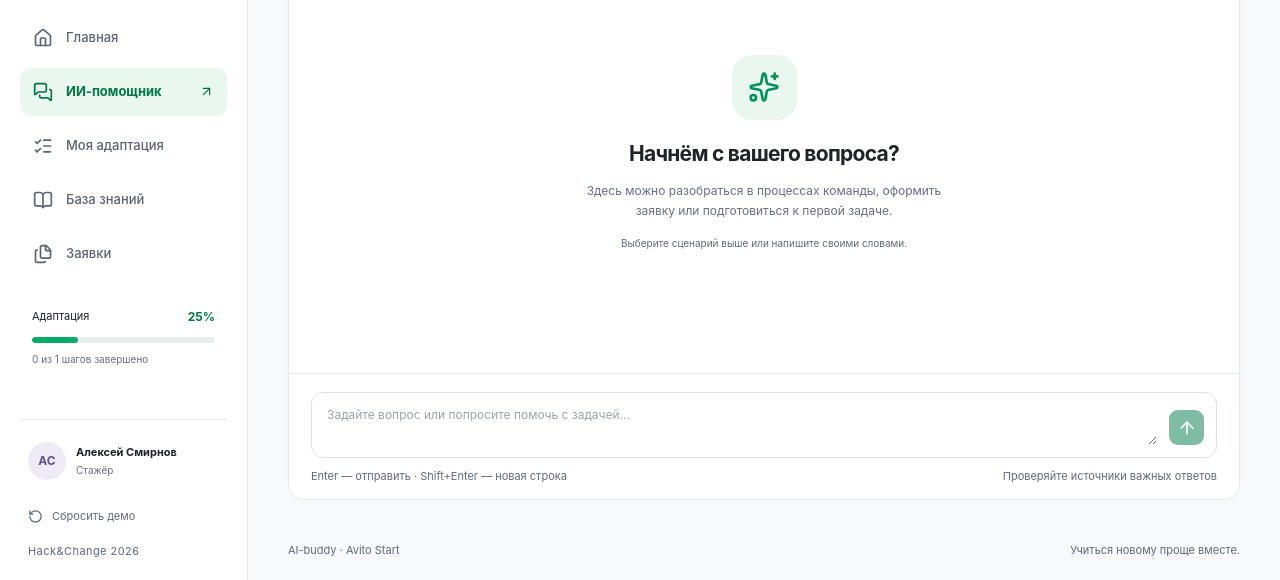
Test: Chat drafts › keeps drafts through navigation and consumes route suggestions without overwriting them
(page scrolled)
Type "Мой черновик" into the text box named "Сообщение AI-buddy" at (742, 425), box [327,405,1157,445]
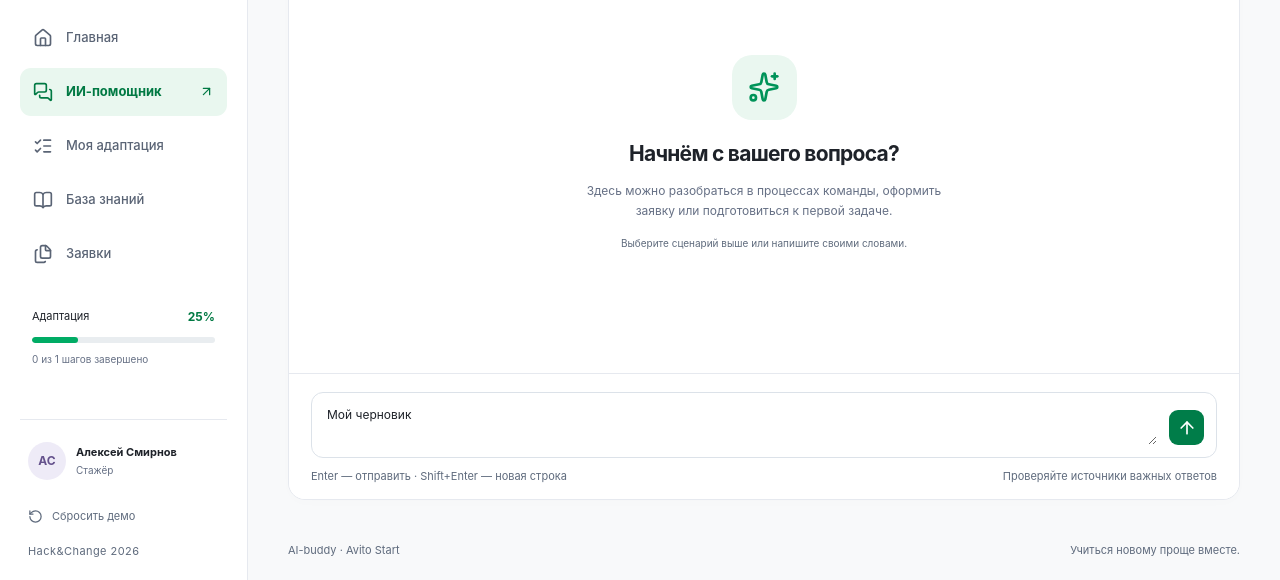
Click the link "Моя адаптация" at (98, 146), box [33,136,164,156]
(page scrolled)
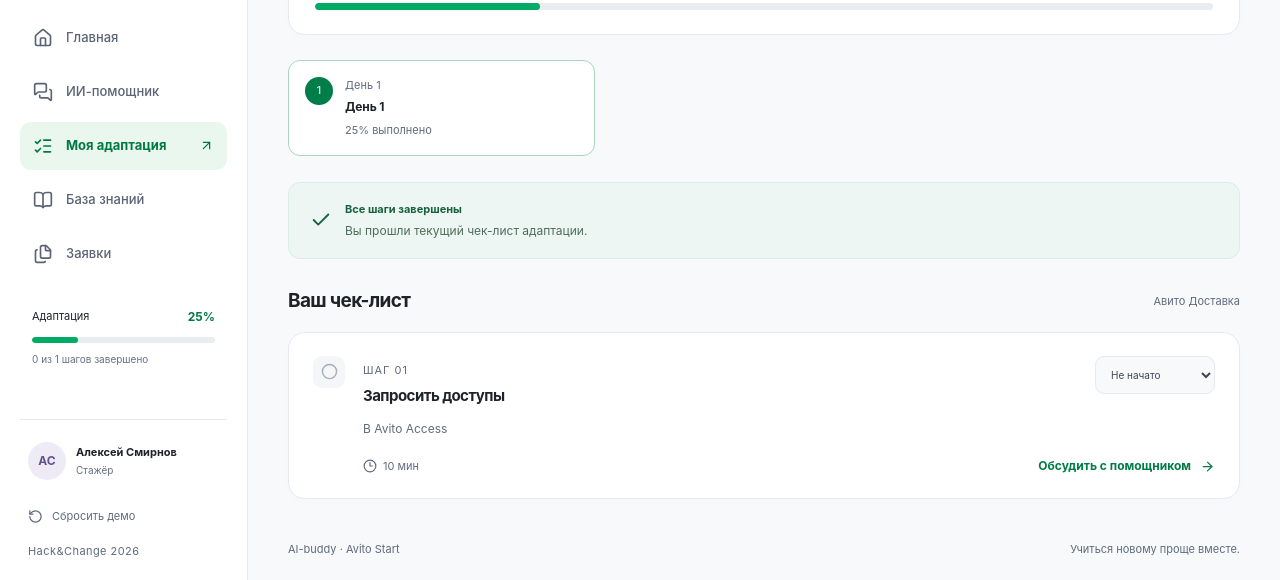
Click the button "Обсудить с помощником" at (1127, 466), box [1038,457,1215,475]
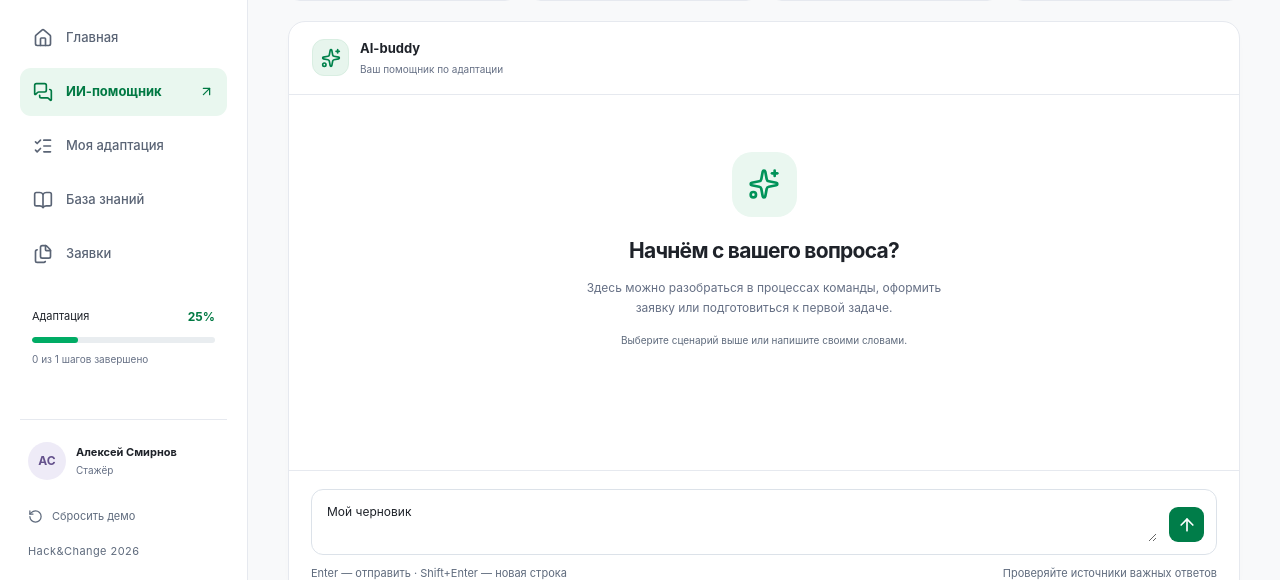
Expected: the text box named "Сообщение AI-buddy" holds "Мой черновик", [327,502,1157,542]
Click the link "Главная" at (76, 38), box [33,28,118,48]
(page scrolled)
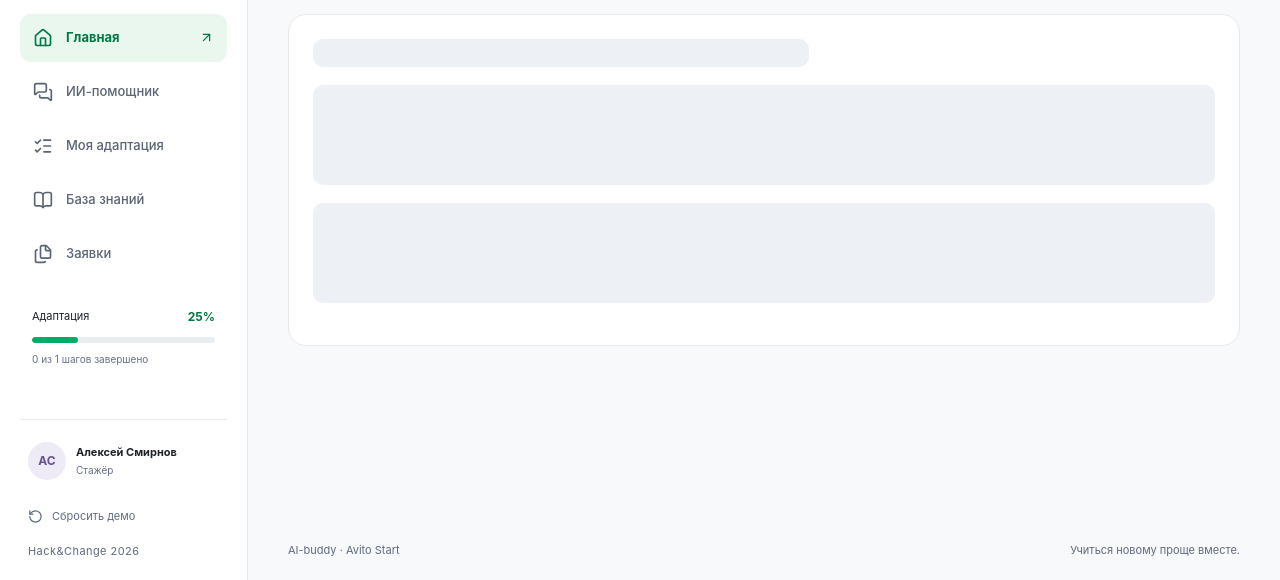
Click the link "ИИ-помощник" at (96, 92), box [33,82,159,102]
(page scrolled)
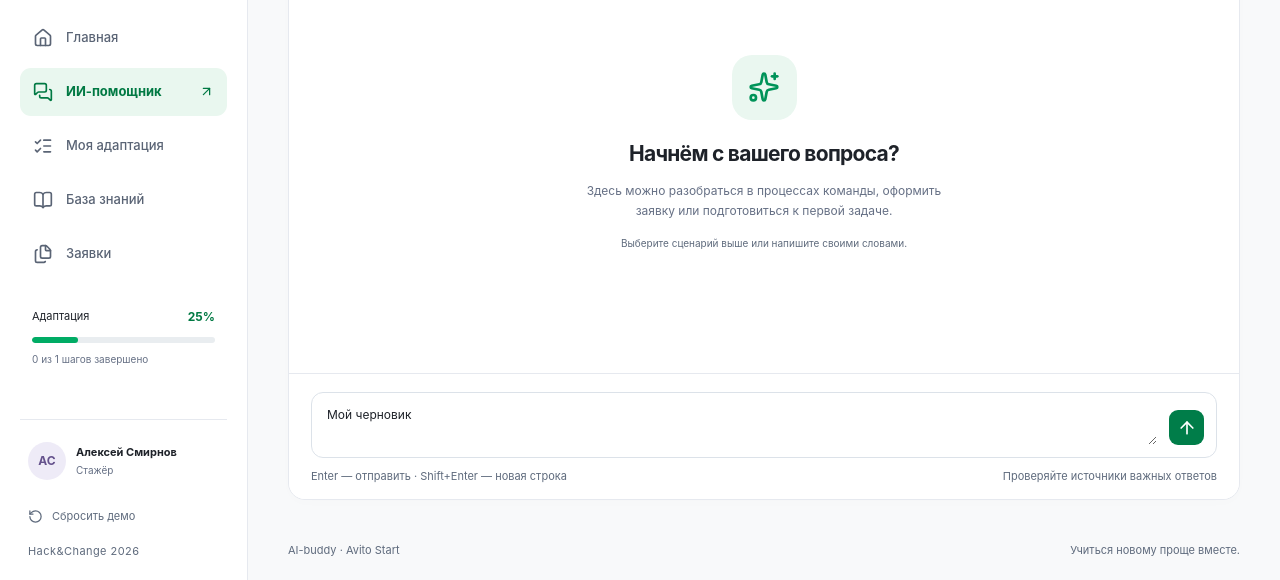
Expected: the text box named "Сообщение AI-buddy" holds "Мой черновик", [327,405,1157,445]
